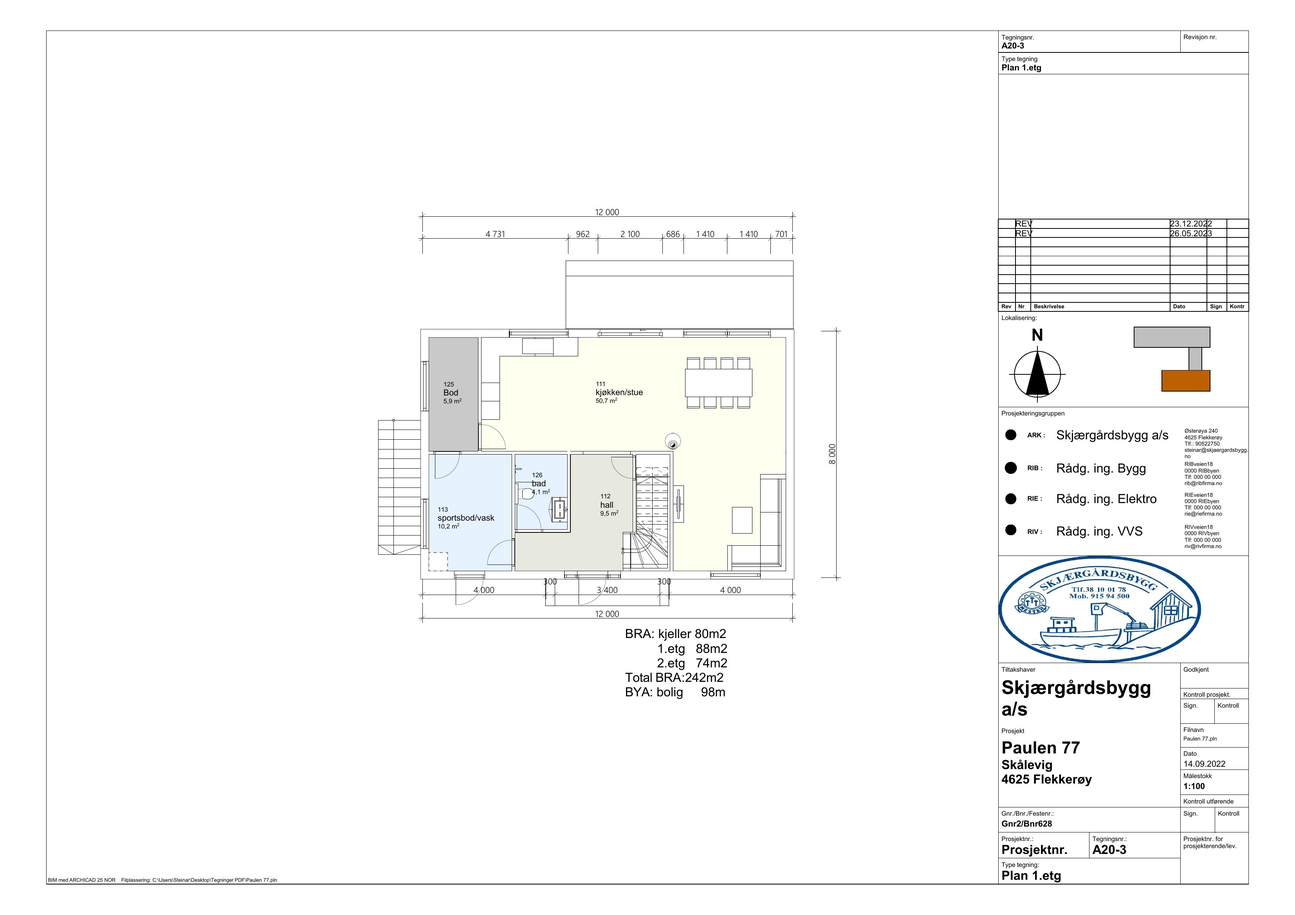plantegning: (369, 291, 808, 615)
tekst: (1002, 868, 1066, 881), (1000, 62, 1045, 74), (1183, 778, 1209, 792)
